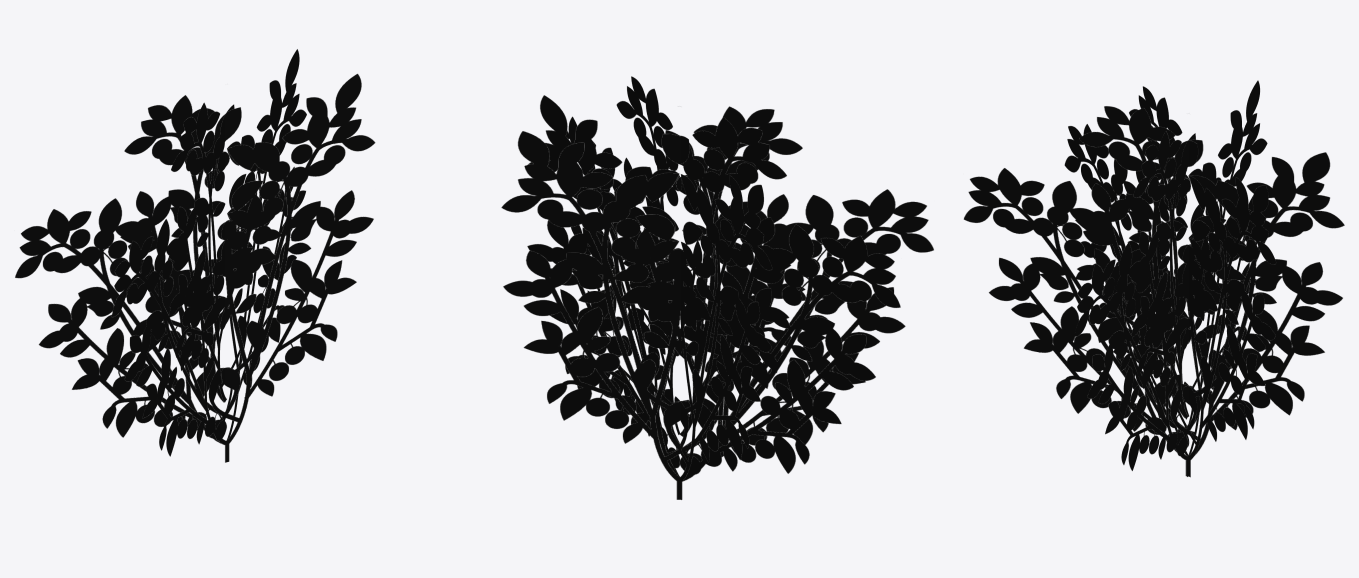
File: BushBlueberry.glb
3 renders of one model, left to right at view 1: azimuth 30°, elevation 25°; view 2: azimuth 150°, elevation 25°; view 3: azimuth 270°, elevation 25°, orthographic. The views are drawn at different scales.
Parts seen in each view (by area): view 1: BushBlueberry; view 2: BushBlueberry; view 3: BushBlueberry.
Boxes of the visible parts, x1,y1,x2,y2 form: BushBlueberry: (15, 49, 375, 462); BushBlueberry: (501, 76, 933, 499); BushBlueberry: (963, 80, 1344, 477).
Bounding box in the file's own units: 2.21 × 2 × 1.91.
1 material, 1 textured.
